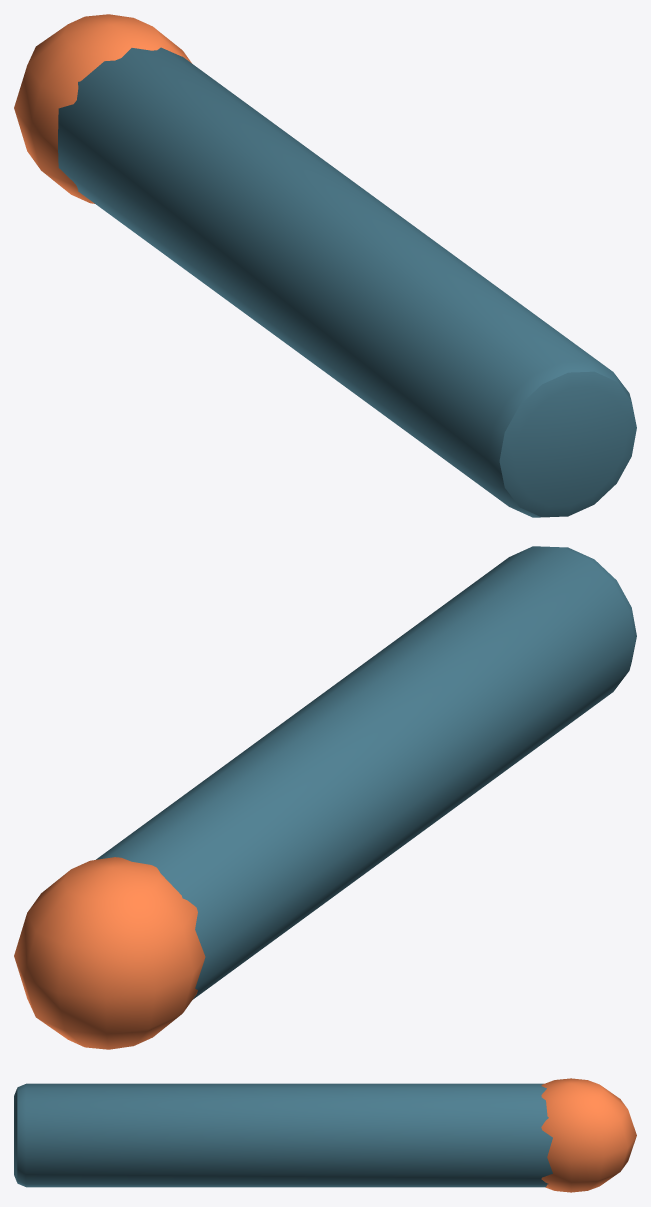
Rendered from dart.glb.
The picture shows the model from 3 angles, top to bottom: view 1: azimuth 30°, elevation 25°; view 2: azimuth 150°, elevation 25°; view 3: azimuth 270°, elevation 25°; orthographic projection. The views are drawn at different scales.
Visible parts, largest first — view 1: DartBody, DartTip; view 2: DartBody, DartTip; view 3: DartBody, DartTip.
Part boxes in pixels (box(x1,y1,x2,y2)): DartBody: box(58, 47, 636, 517); DartTip: box(14, 14, 191, 203); DartBody: box(96, 546, 636, 999); DartTip: box(14, 857, 205, 1049); DartBody: box(14, 1083, 552, 1187); DartTip: box(541, 1078, 636, 1192).
Bounding box in the file's own units: 0.0144 × 0.0144 × 0.0783.
